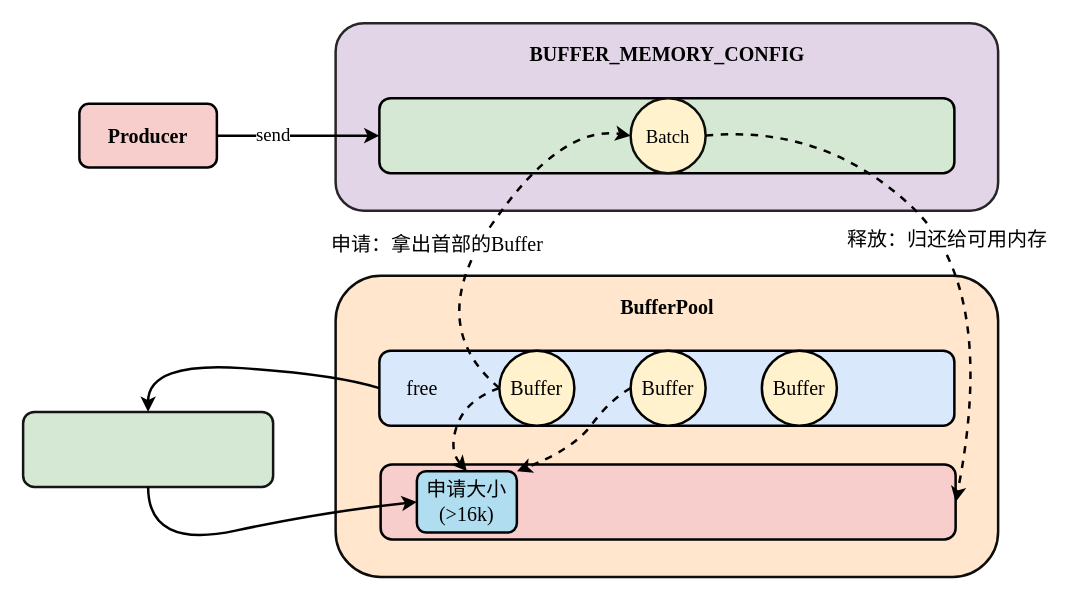
Image size: 1068x599. Some labels were removed from this diagram. The box of each missing label's shape, as (x1, y1, x2, y2) in pixels:
availableMemory: (379, 462, 956, 540)
Partition1: (378, 96, 955, 174)
可用内存不足，将free 的空余刷新到可用内存中: (21, 410, 274, 488)
